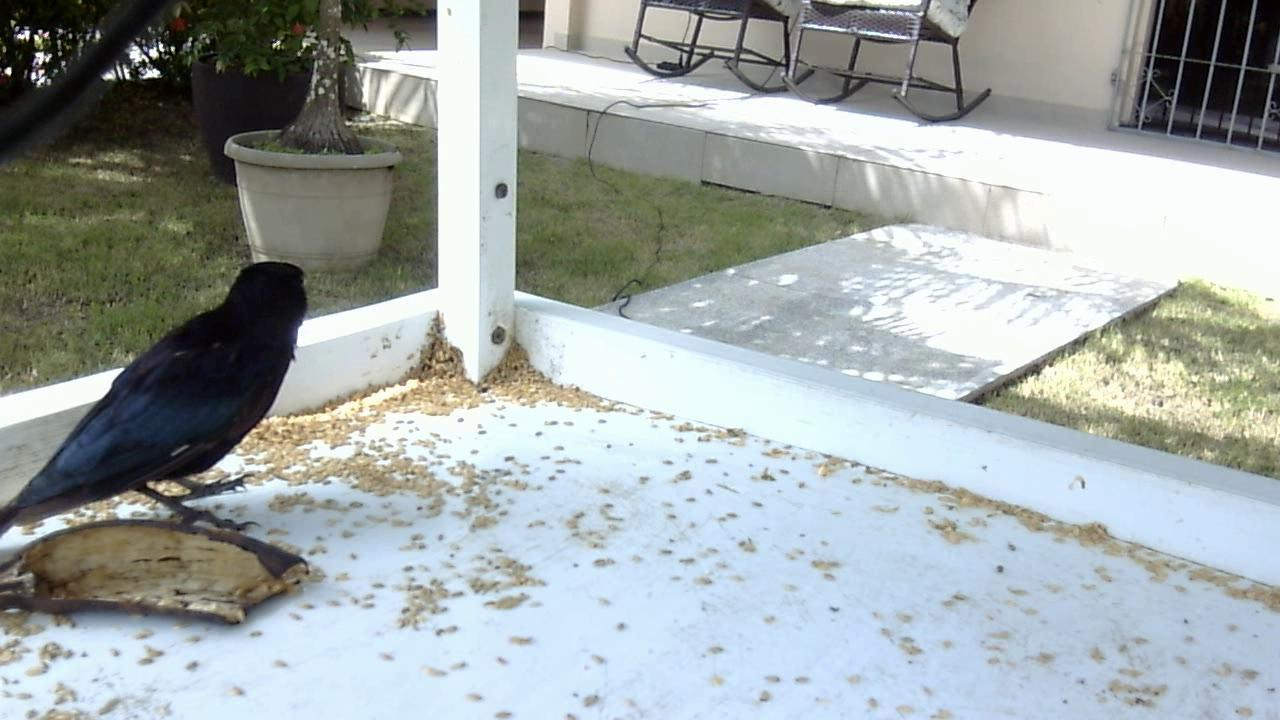chupim: (1, 244, 318, 576)
